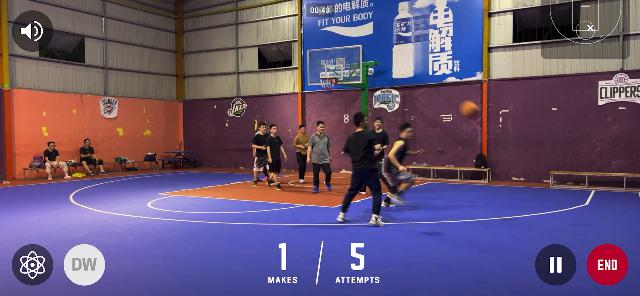ball: (460, 100, 478, 119)
basket: (319, 76, 337, 92)
